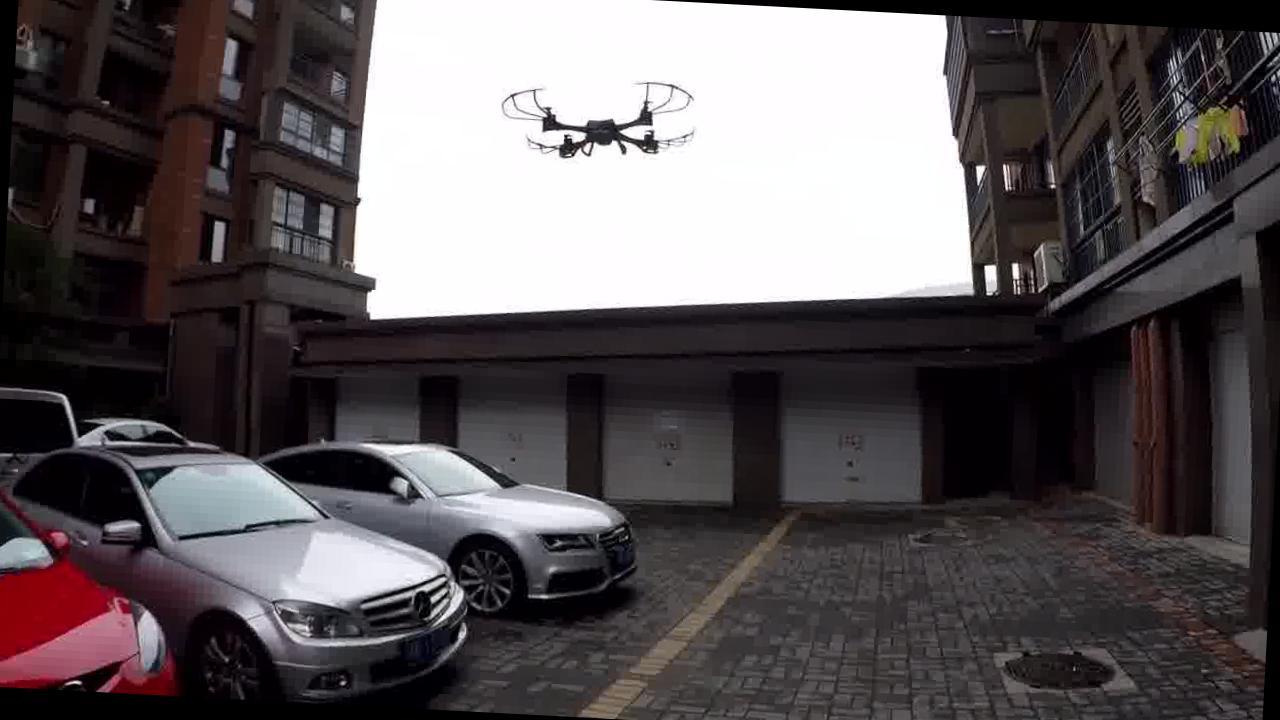drone: (486, 54, 714, 191)
